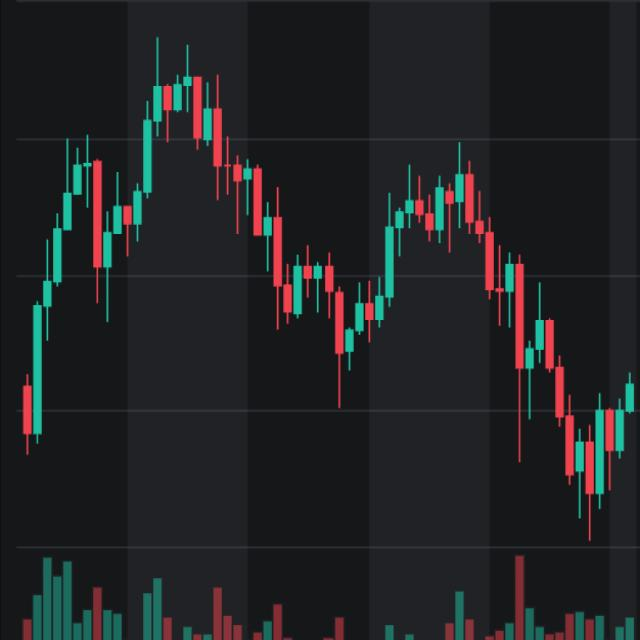Channel-down: (66, 25, 640, 547)
